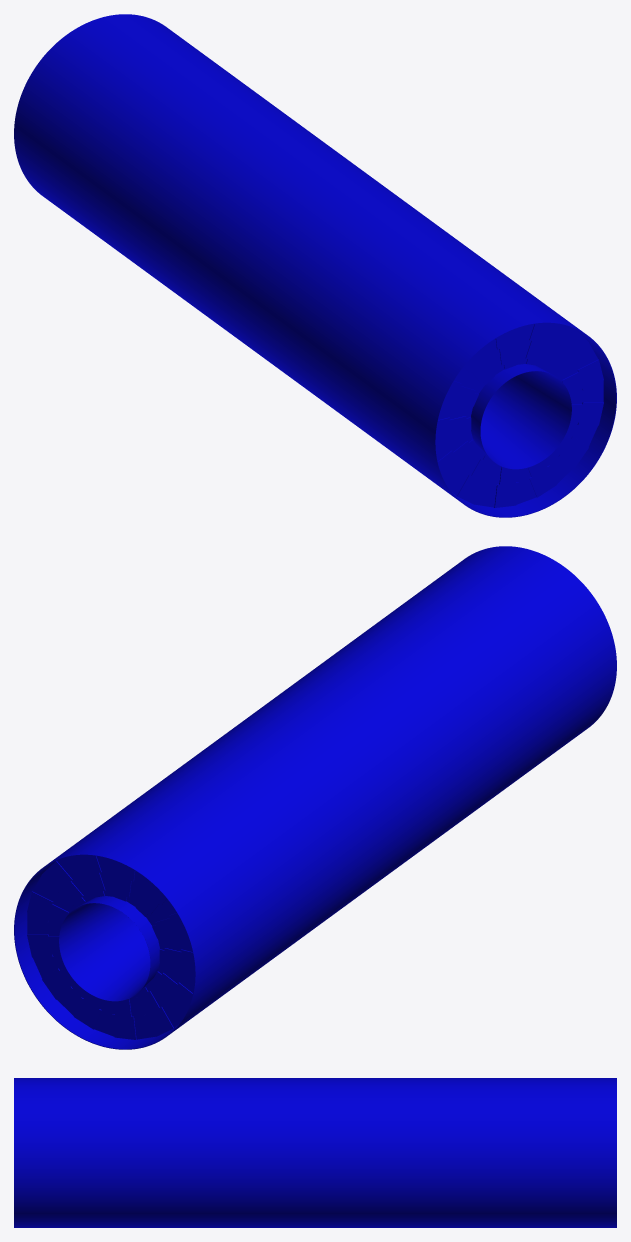
File: InnerTrackers.gltf
The picture shows the model from 3 angles, top to bottom: view 1: azimuth 30°, elevation 25°; view 2: azimuth 150°, elevation 25°; view 3: azimuth 270°, elevation 25°; orthographic projection. The views are drawn at different scales.
Visible parts, largest first — view 1: InnerTrackers; view 2: InnerTrackers; view 3: InnerTrackers.
Boxes of the visible parts, left/top/right/bottom form: InnerTrackers: left=14, top=14, right=616, bottom=517; InnerTrackers: left=14, top=546, right=616, bottom=1049; InnerTrackers: left=14, top=1078, right=616, bottom=1227.
Bounding box in the file's own units: 1147 × 1147 × 4612.
